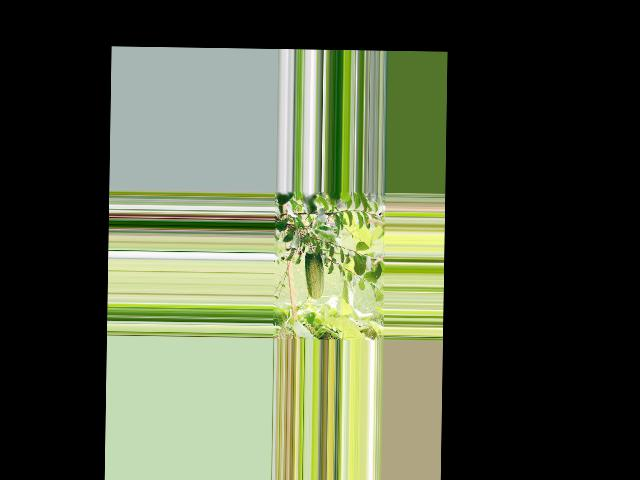cucumber: (303, 246, 324, 299)
